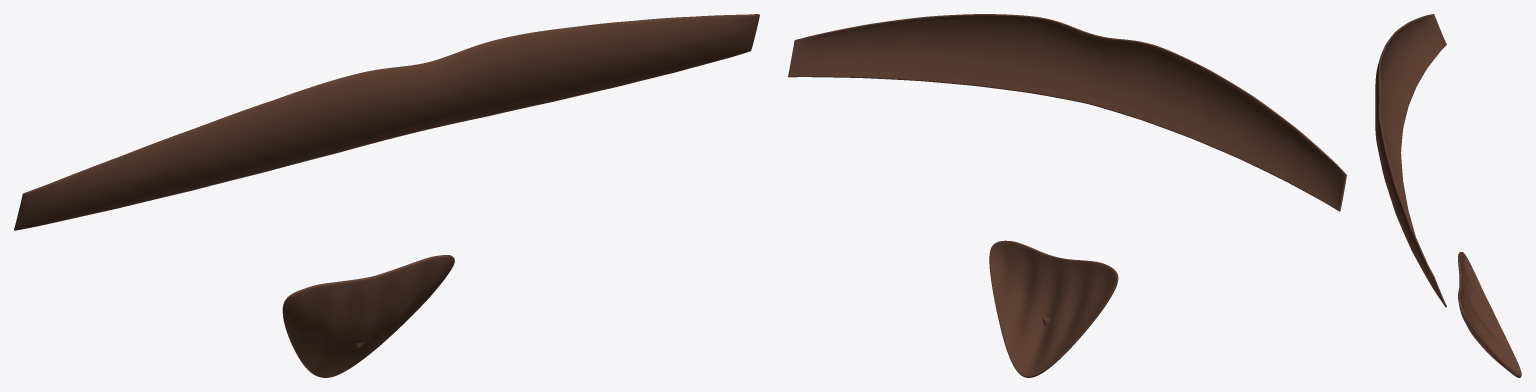
The model's file is Masculine-groom-patch.glb.
The picture shows the model from 3 angles, left to right: view 1: azimuth 30°, elevation 25°; view 2: azimuth 150°, elevation 25°; view 3: azimuth 270°, elevation 25°; orthographic projection. The views are drawn at different scales.
Parts seen in each view (by area): view 1: Groom / shared mustache208, Groom / sculpted soul patch187; view 2: Groom / shared mustache208, Groom / sculpted soul patch187; view 3: Groom / shared mustache208, Groom / sculpted soul patch187.
Part boxes in pixels (x1,y1,x2,y2): Groom / shared mustache208: [14, 14, 759, 230]; Groom / sculpted soul patch187: [282, 255, 454, 377]; Groom / shared mustache208: [788, 14, 1346, 211]; Groom / sculpted soul patch187: [989, 240, 1118, 377]; Groom / shared mustache208: [1375, 14, 1446, 307]; Groom / sculpted soul patch187: [1458, 252, 1521, 377].
Bounding box in the file's own units: 0.2702 × 0.1371 × 0.0638.
